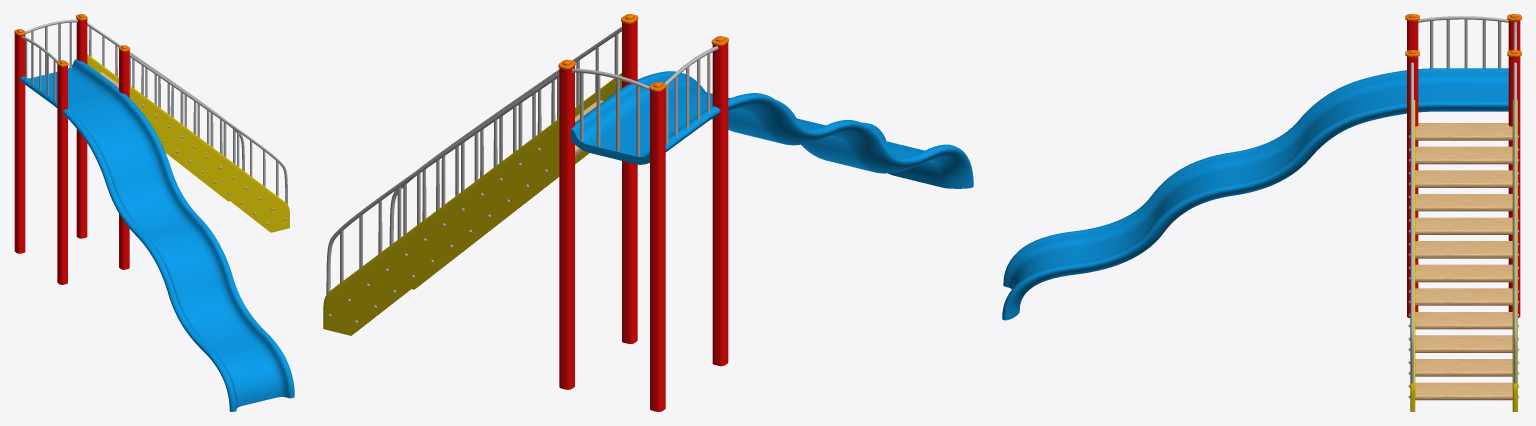
Rendered from slide-playground.glb.
3 views of the same model, side by side, from view 1: azimuth 30°, elevation 25°; view 2: azimuth 150°, elevation 25°; view 3: azimuth 270°, elevation 25° (orthographic). The views are drawn at different scales.
Parts seen in each view (by area): view 1: NurbsPath_1, PERILO_7, STAIRS_5, Cylinder.005_2, NAVERSHIE_6; view 2: PERILO_7, NurbsPath_1, STAIRS_5, Cylinder.005_2; view 3: NurbsPath_1, STUPKA_4, Cylinder.005_2, PERILO_7, STAIRS_5.
Boxes of the visible parts, box(x1,y1,x2,y2) form: NurbsPath_1: box(20, 59, 294, 411); PERILO_7: box(14, 18, 129, 284); STAIRS_5: box(87, 54, 289, 232); Cylinder.005_2: box(21, 19, 287, 204); NAVERSHIE_6: box(14, 14, 130, 66); PERILO_7: box(559, 20, 728, 411); NurbsPath_1: box(571, 71, 973, 188); STAIRS_5: box(323, 73, 621, 335); Cylinder.005_2: box(326, 26, 718, 294); NurbsPath_1: box(1002, 68, 1508, 320); STUPKA_4: box(1415, 123, 1512, 400); Cylinder.005_2: box(1410, 16, 1516, 383); PERILO_7: box(1407, 20, 1520, 317); STAIRS_5: box(1410, 100, 1517, 411).
Size of the model in its own units: 7.03 by 6.57 by 11.46.
6 materials, 1 textured.
